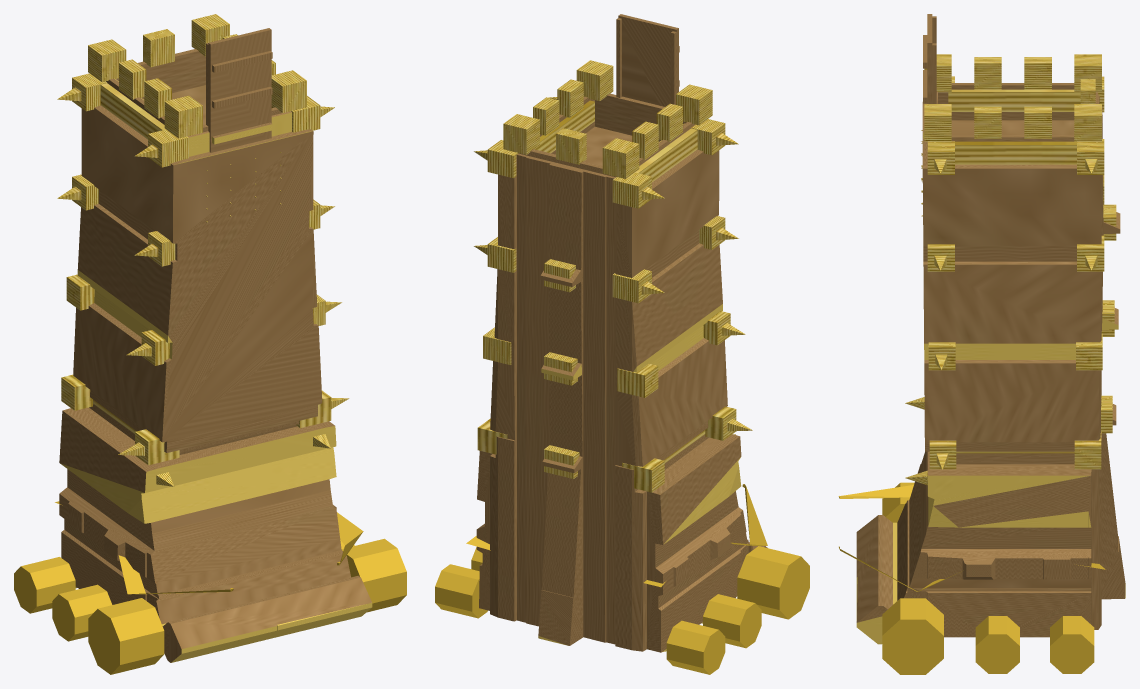
The model's file is ae_siege_tower_open_large_royal_lod0.glb.
The picture shows the model from 3 angles, left to right: view 1: azimuth 30°, elevation 25°; view 2: azimuth 150°, elevation 25°; view 3: azimuth 270°, elevation 25°; orthographic projection. The views are drawn at different scales.
Parts seen in each view (by area): view 1: siege_tower_open_large, drawbridge; view 2: siege_tower_open_large, drawbridge; view 3: siege_tower_open_large, drawbridge.
Boxes of the visible parts, bbox=[...] form: siege_tower_open_large: bbox=[14, 14, 406, 674]; drawbridge: bbox=[206, 28, 272, 152]; siege_tower_open_large: bbox=[435, 60, 809, 674]; drawbridge: bbox=[616, 14, 679, 106]; siege_tower_open_large: bbox=[838, 54, 1125, 674]; drawbridge: bbox=[923, 14, 936, 148].
Size of the model in its own units: 67.27 by 133 by 59.65.
4 materials, 3 textured.
